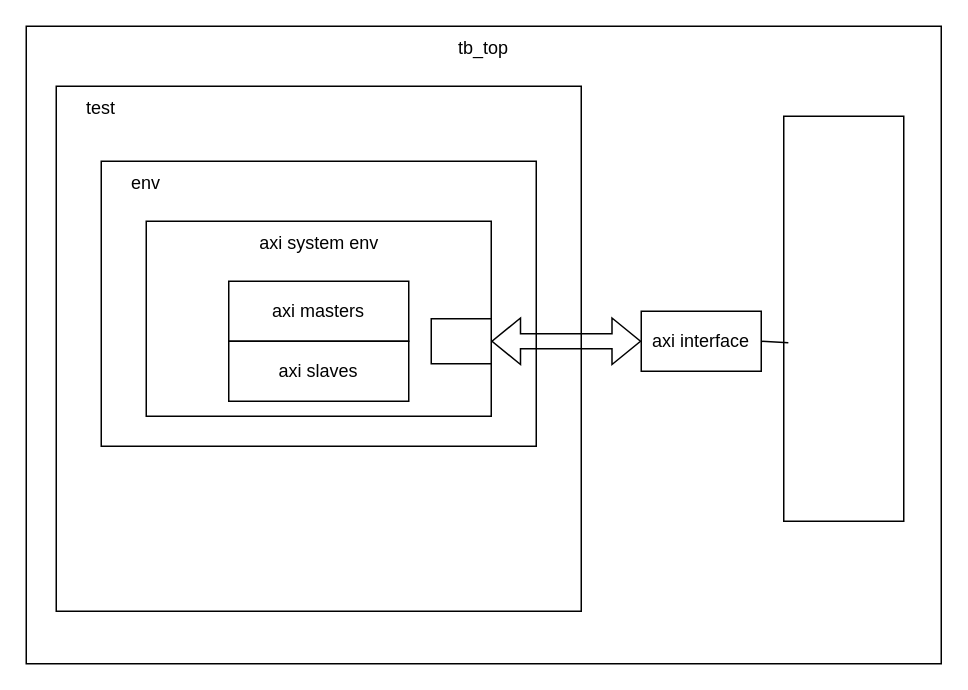
Image size: 968x690. Some labels were removed from this diagram. Here are the shapes that lost their labels. From the top down, the centre of each, then its label:
At (x=843, y=318): "DUT".
At (x=460, y=340): "vif".
